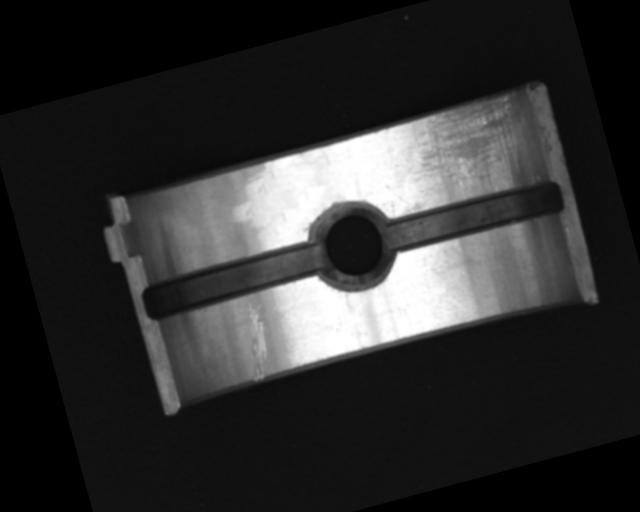gap: (138, 236, 327, 327), (385, 173, 568, 258)
hole: (300, 193, 403, 298)
nick: (233, 299, 280, 382)
scratch: (396, 87, 543, 211)
